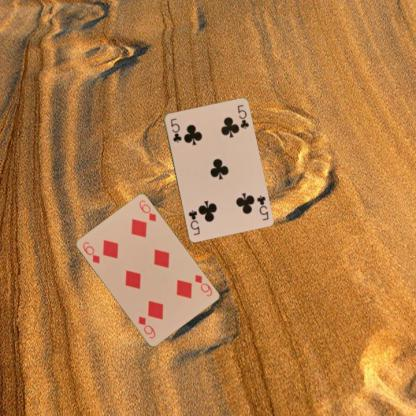5c: (254, 192, 269, 222), (168, 116, 182, 143)
6d: (192, 272, 213, 298), (80, 239, 100, 265)
